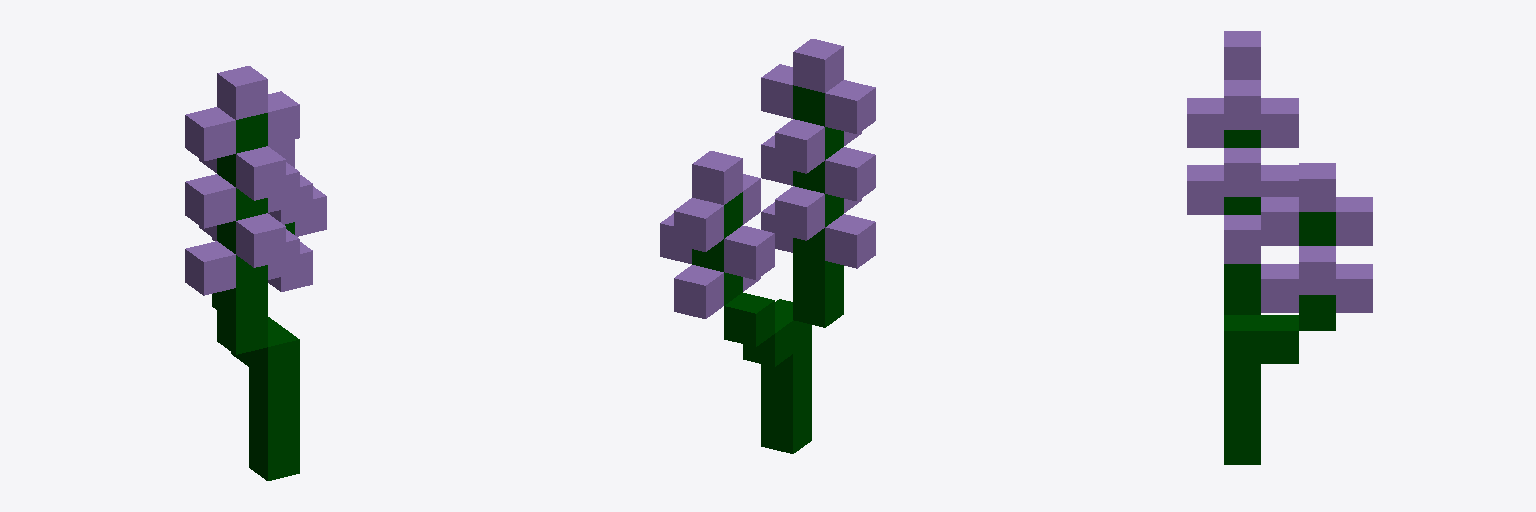
The picture shows the model from 3 angles: view 1: azimuth 30°, elevation 25°; view 2: azimuth 150°, elevation 25°; view 3: azimuth 270°, elevation 25°; orthographic projection.
Parts seen in each view (by area): view 1: object 1; view 2: object 1; view 3: object 1.
Part boxes in pixels (x1,y1,x2,y2): object 1: (185,66,326,480); object 1: (660,39,875,453); object 1: (1187,31,1372,464).
Bounding box in the file's own units: 0.5 × 1.2 × 0.5.
Materials: 1 (1 with a texture image).